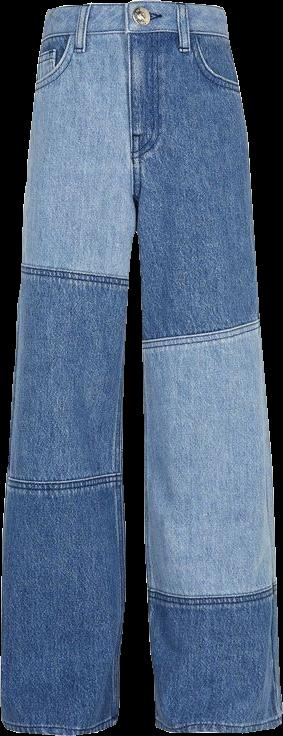Hemline: (152, 715, 282, 735), (0, 714, 119, 735)
Pantleg: (123, 0, 281, 732), (1, 1, 133, 734)
Waistline: (141, 314, 260, 347), (144, 577, 279, 602), (44, 0, 226, 18), (40, 27, 228, 43), (19, 259, 130, 286), (3, 465, 124, 488)
